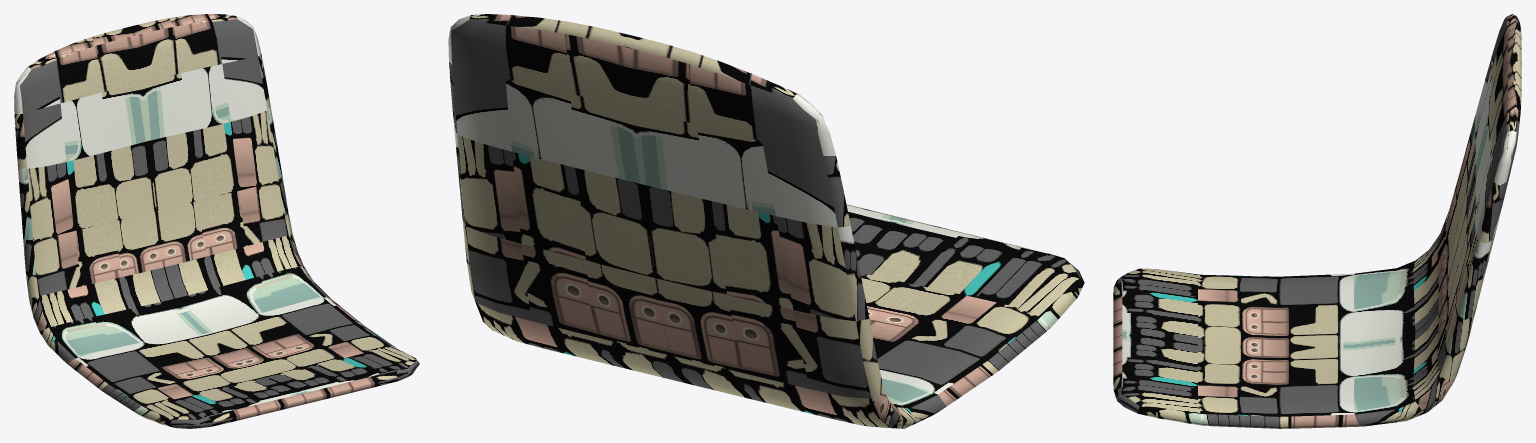
The model's file is Chair_01.fbx.
The picture shows the model from 3 angles, left to right: view 1: azimuth 30°, elevation 25°; view 2: azimuth 150°, elevation 25°; view 3: azimuth 270°, elevation 25°; orthographic projection. The views are drawn at different scales.
Visible parts, largest first — view 1: Chair_01_LOD0; view 2: Chair_01_LOD0; view 3: Chair_01_LOD0.
Part boxes in pixels (bbox=[...]): Chair_01_LOD0: bbox=[14, 14, 419, 428]; Chair_01_LOD0: bbox=[448, 14, 1084, 428]; Chair_01_LOD0: bbox=[1113, 14, 1521, 428].
Size of what is drawn, in the model's own units: 84.57 by 80.57 by 97.99.
